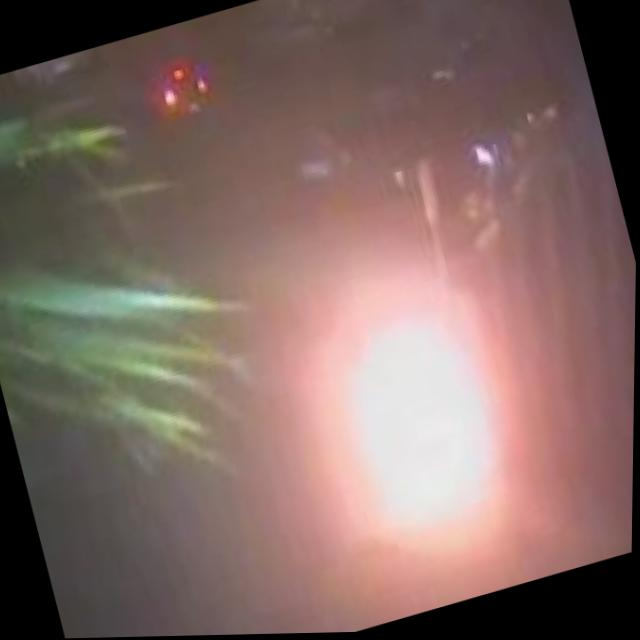fire: (281, 248, 557, 587)
